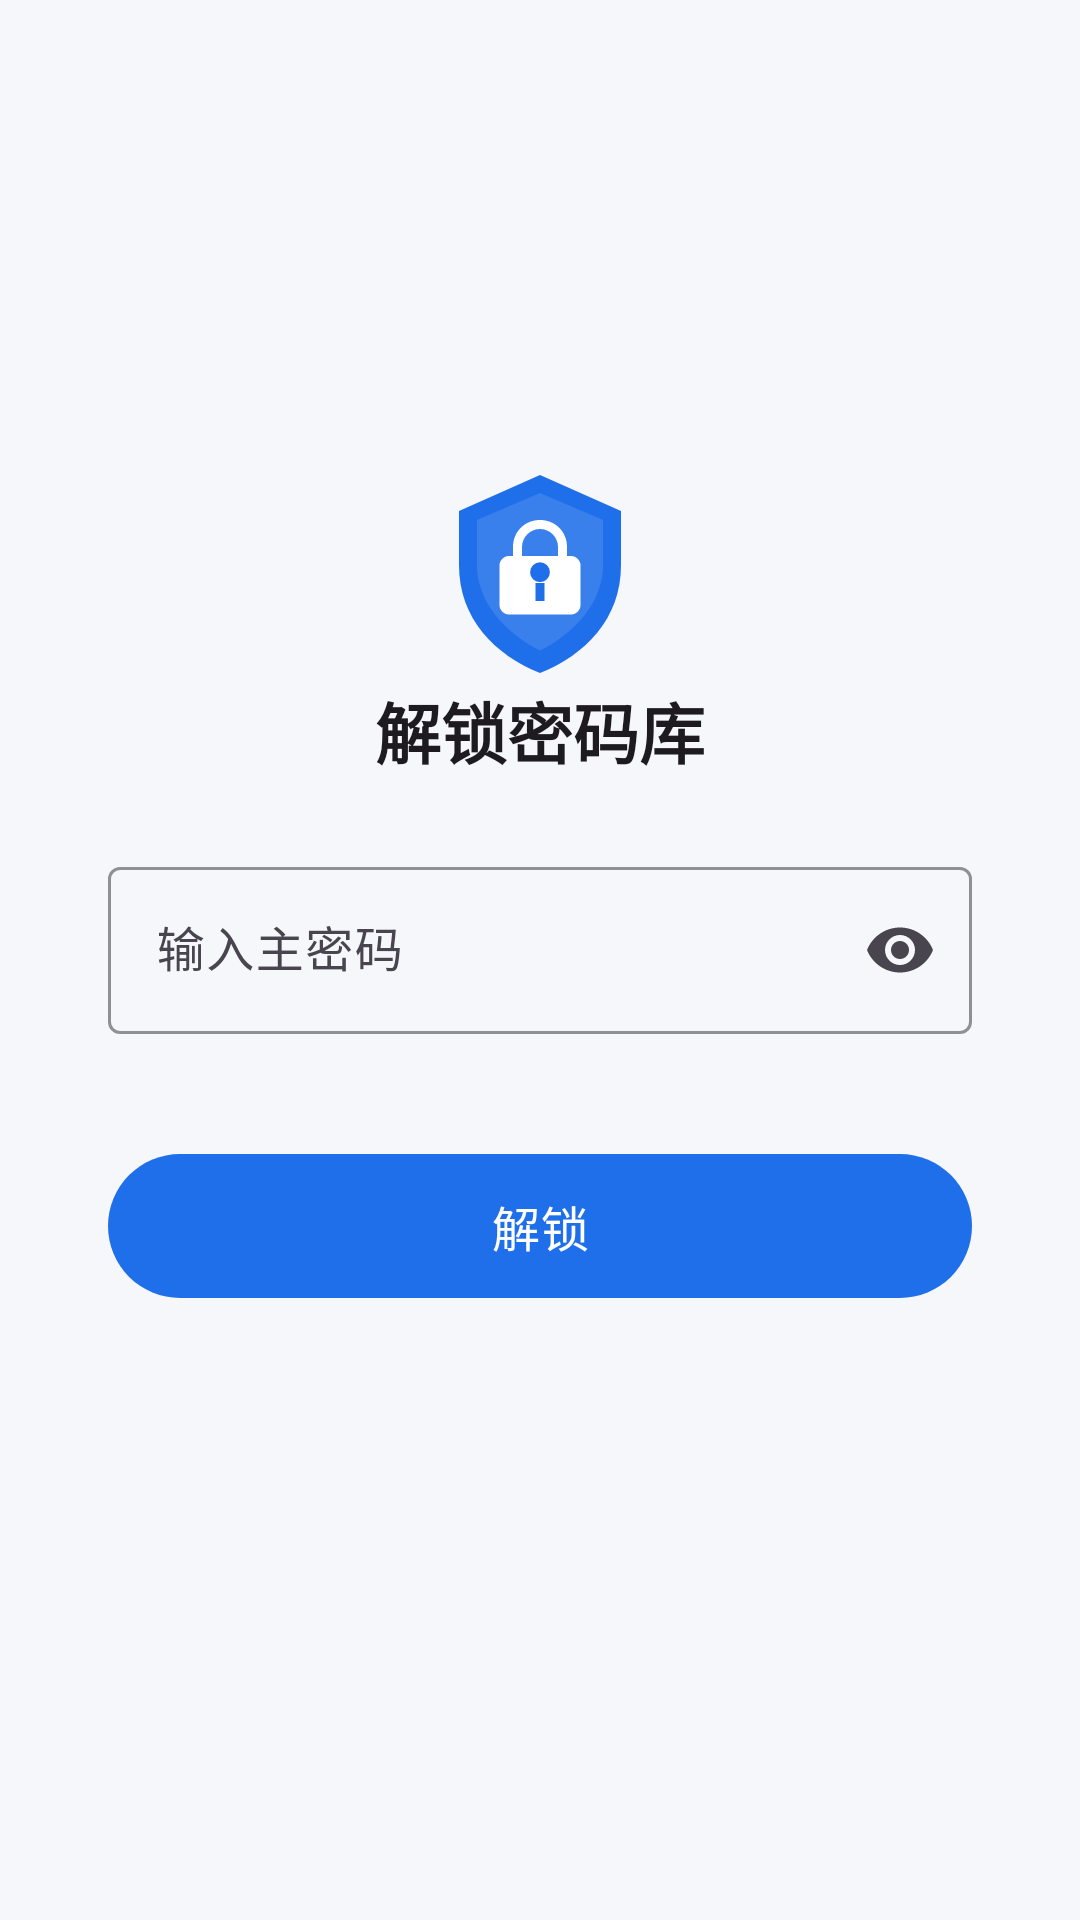

Where icons sit on this 1080x1920 app screen, as bbox(x1, y1, x2, y2):
shield lock: bbox(459, 475, 621, 673)
